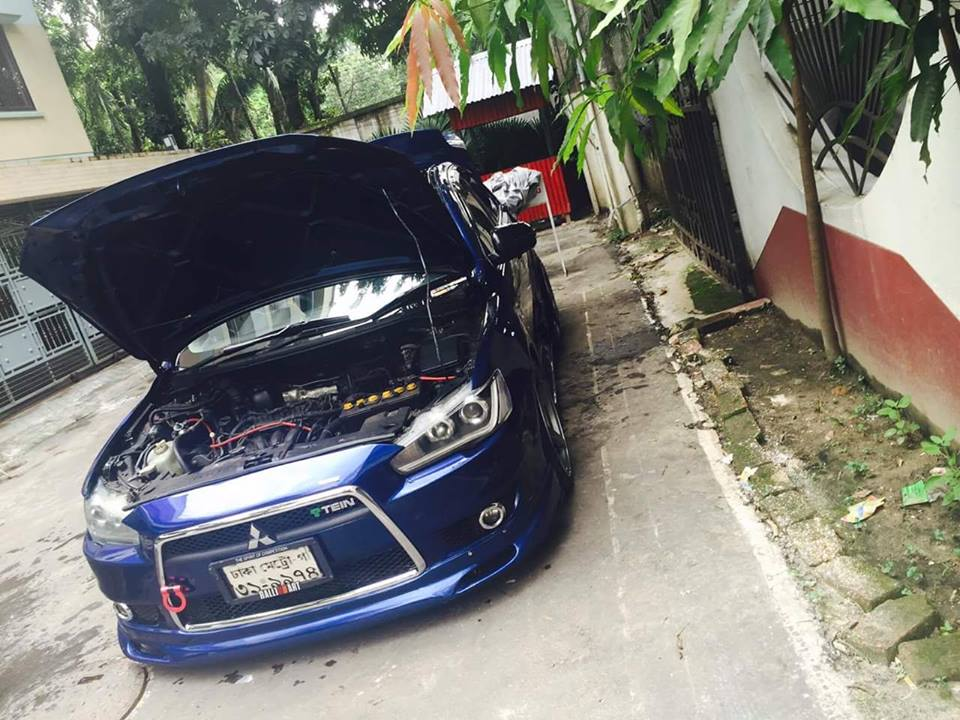registration_plate: (222, 544, 324, 598)
